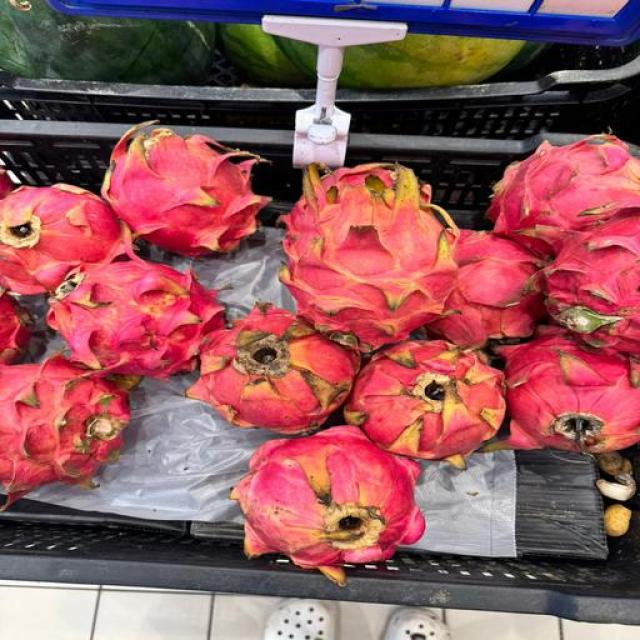organic: (0, 86, 640, 612), (0, 0, 216, 83), (340, 35, 524, 88), (340, 35, 523, 88), (220, 24, 309, 86), (500, 42, 551, 77)
